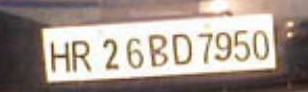numberplate: (40, 13, 277, 84)
